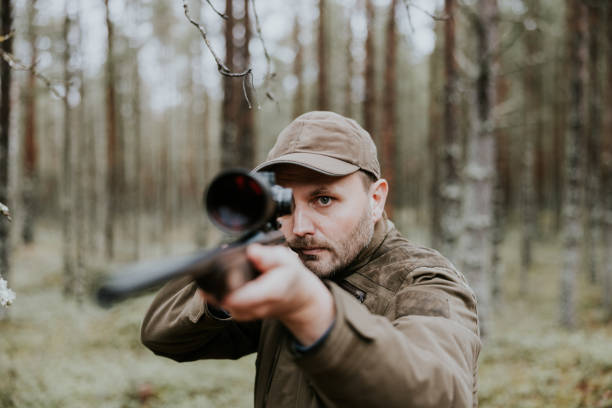gun: (93, 167, 292, 311)
